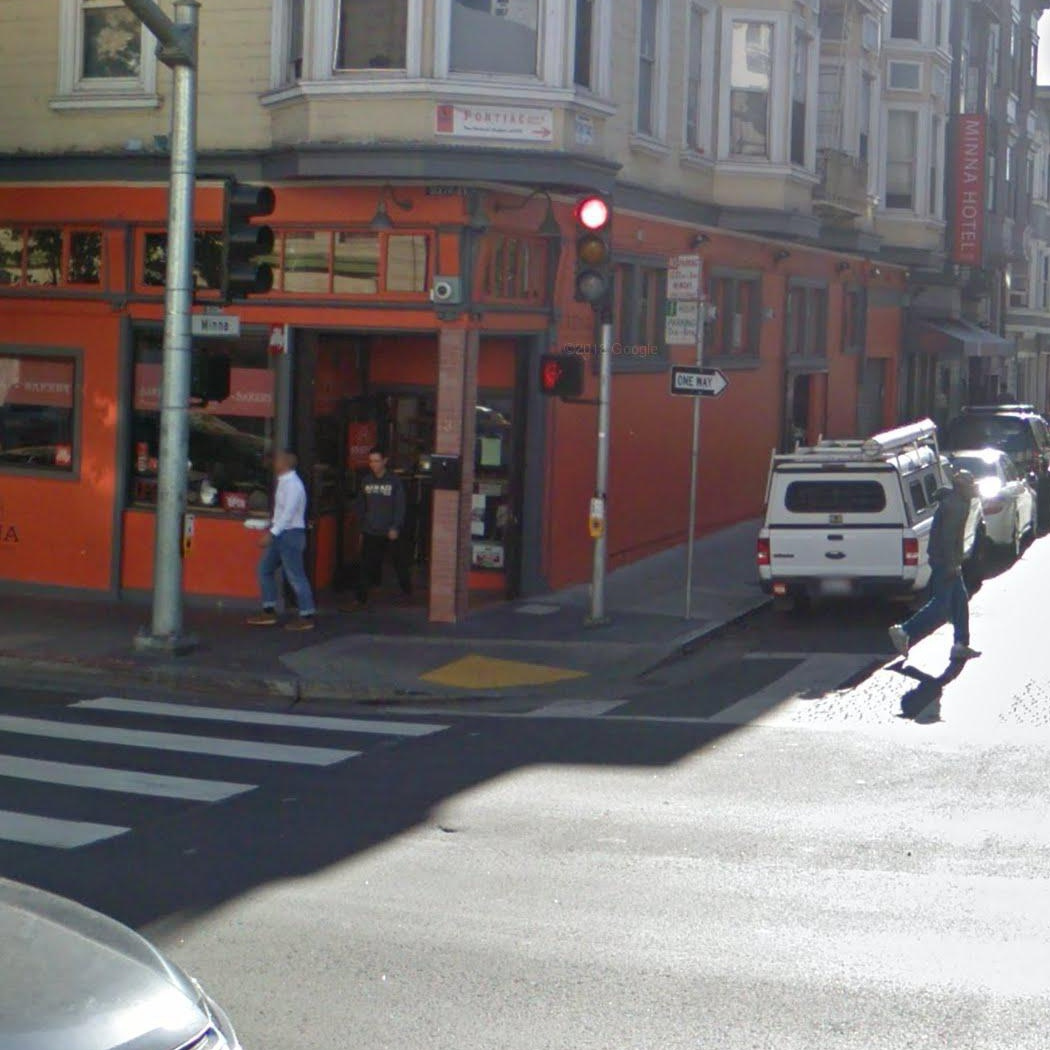1 Hour Parking: (662, 298, 700, 348)
No Parking: (664, 252, 702, 301)
